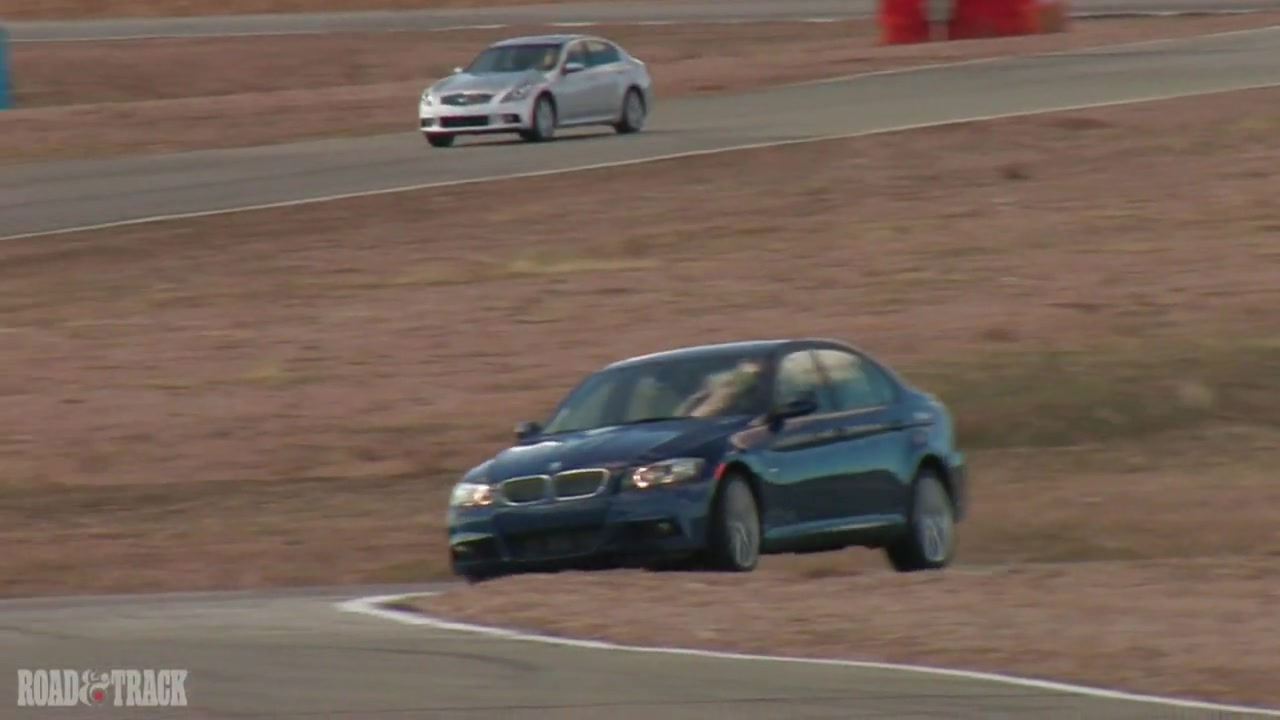car: (444, 340, 969, 573), (417, 30, 654, 151)
